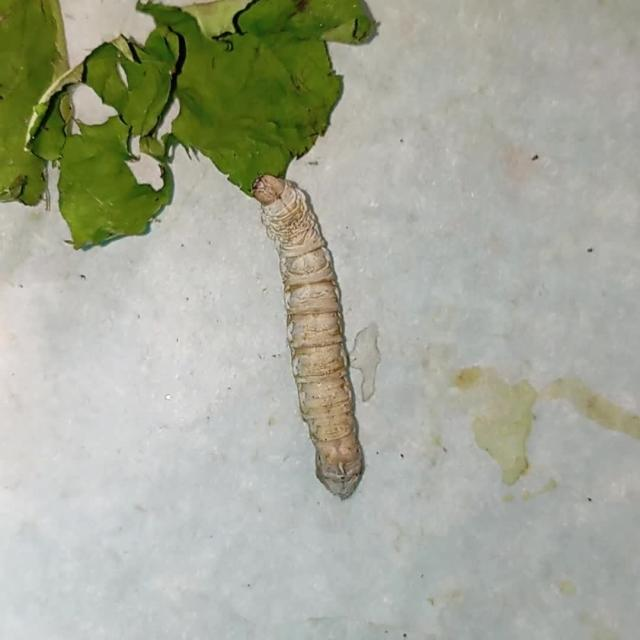Grasserie: (238, 160, 390, 514)
